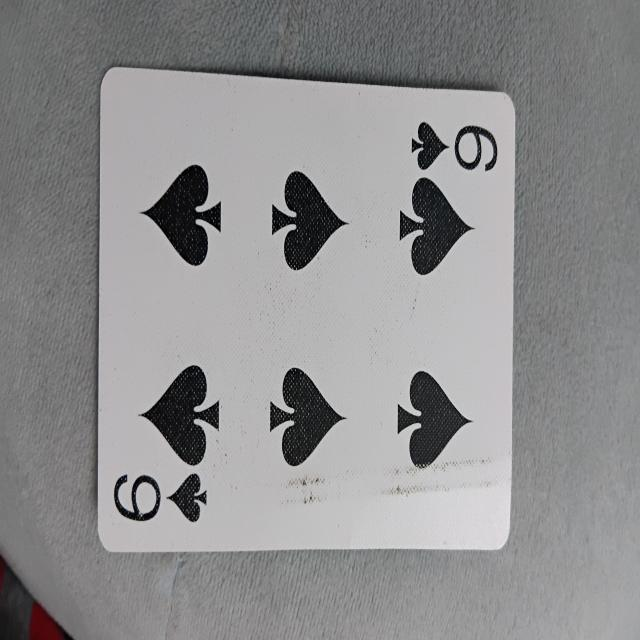6S: (99, 78, 506, 546)
